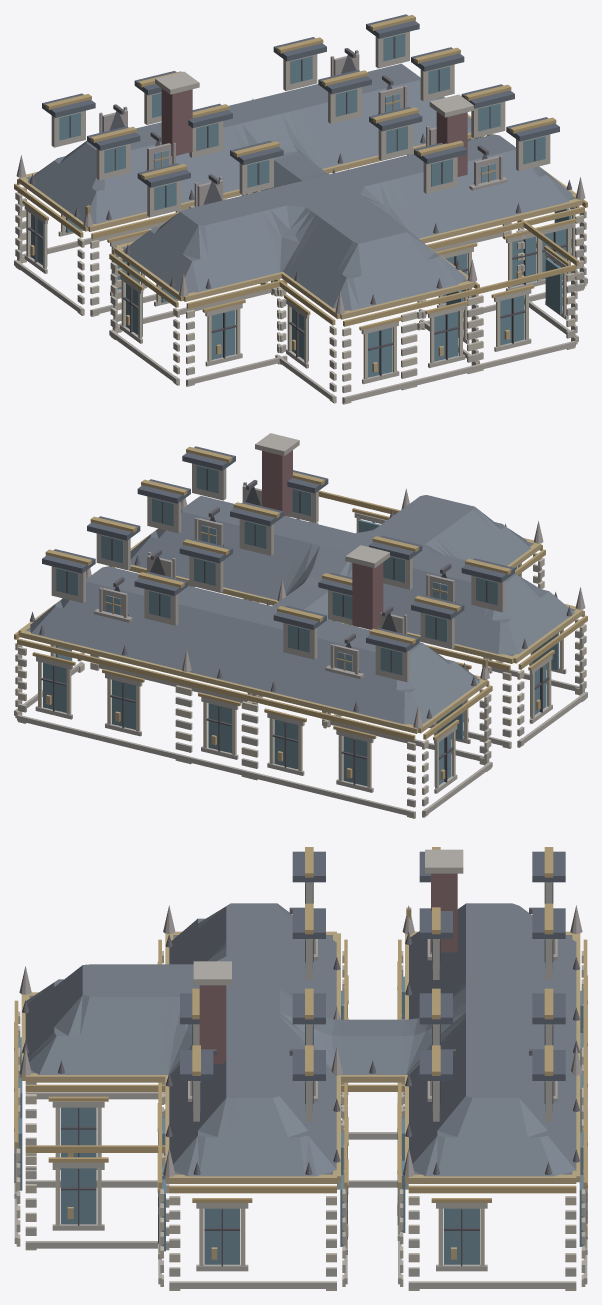
File: street_preview.glb
3 views of the same model, one above another, from view 1: azimuth 30°, elevation 25°; view 2: azimuth 150°, elevation 25°; view 3: azimuth 270°, elevation 25° (orthographic). The views are drawn at different scales.
Visible parts, largest first — view 1: world; view 2: world; view 3: world.
Part boxes in pixels (x1,y1,x2,y2): world: (14, 14, 587, 404); world: (14, 433, 587, 818); world: (14, 847, 587, 1290).
Size of the model in its own units: 15.22 by 6.99 by 14.61.
